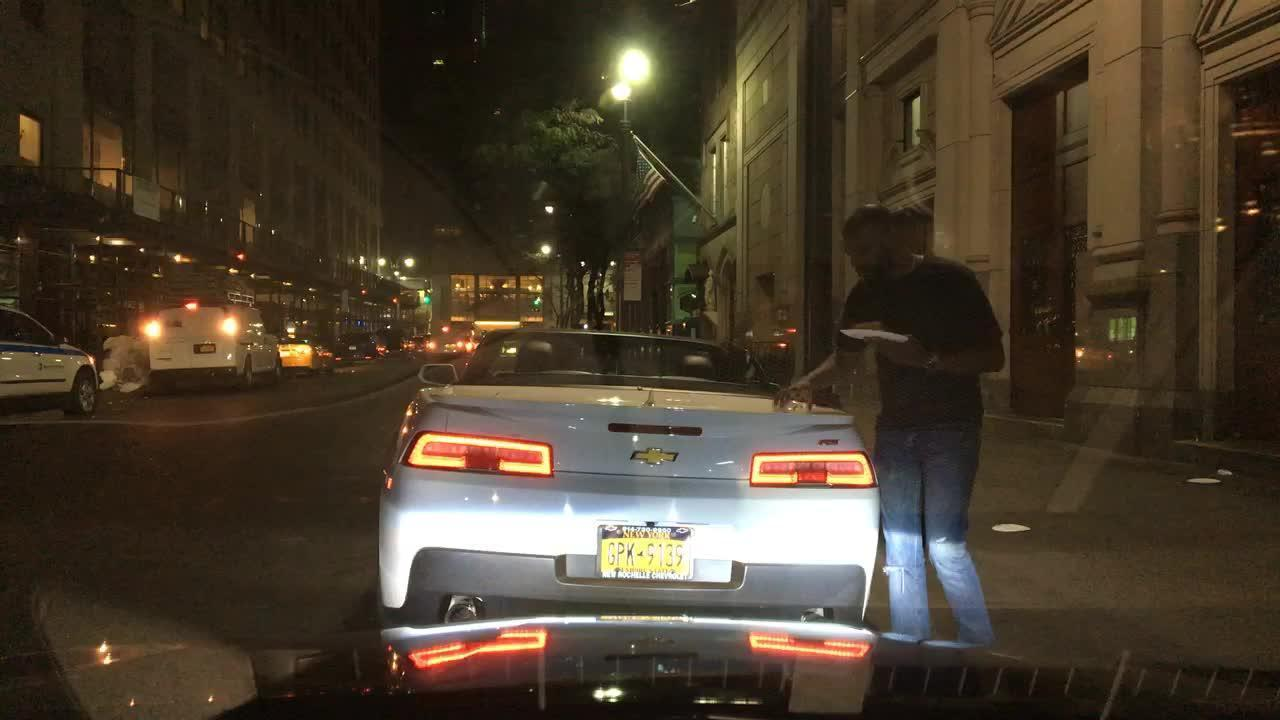chevrolet: (630, 445, 686, 477)
